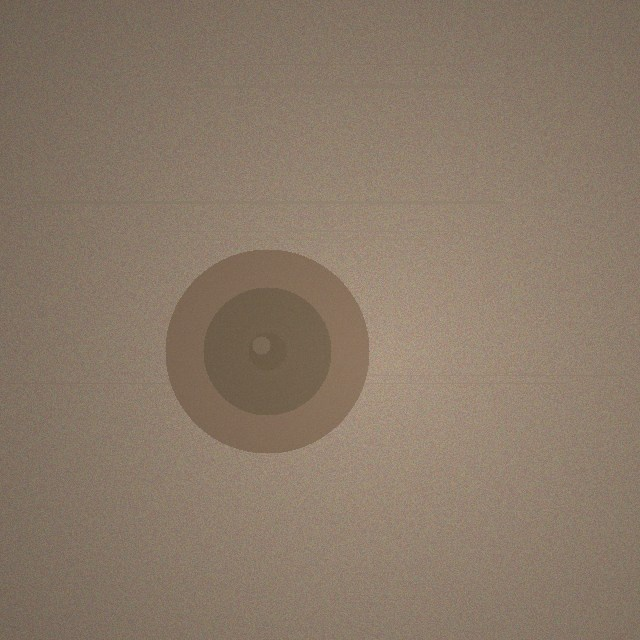good: (165, 249, 369, 453)
